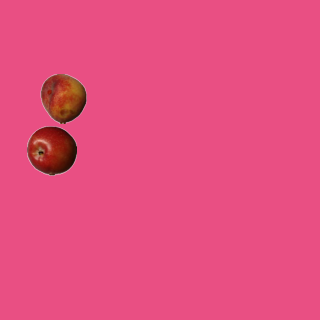Apple Braeburn: (26, 125, 76, 175)
Peach: (38, 73, 88, 123)
